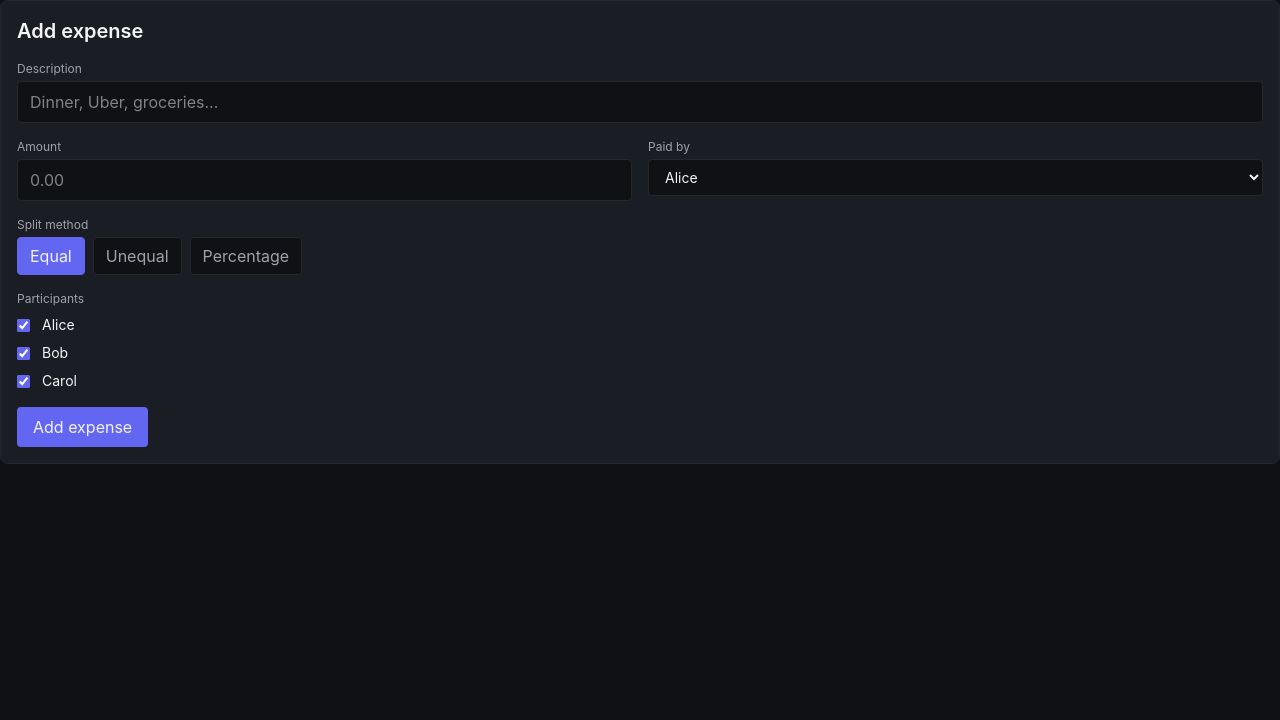
Test: AddExpenseForm › requires at least one participant to be selected
Type "Dinner" into the field labelled "Description".
click(640, 102); type("Dinner")  # box [17,81,1263,123]
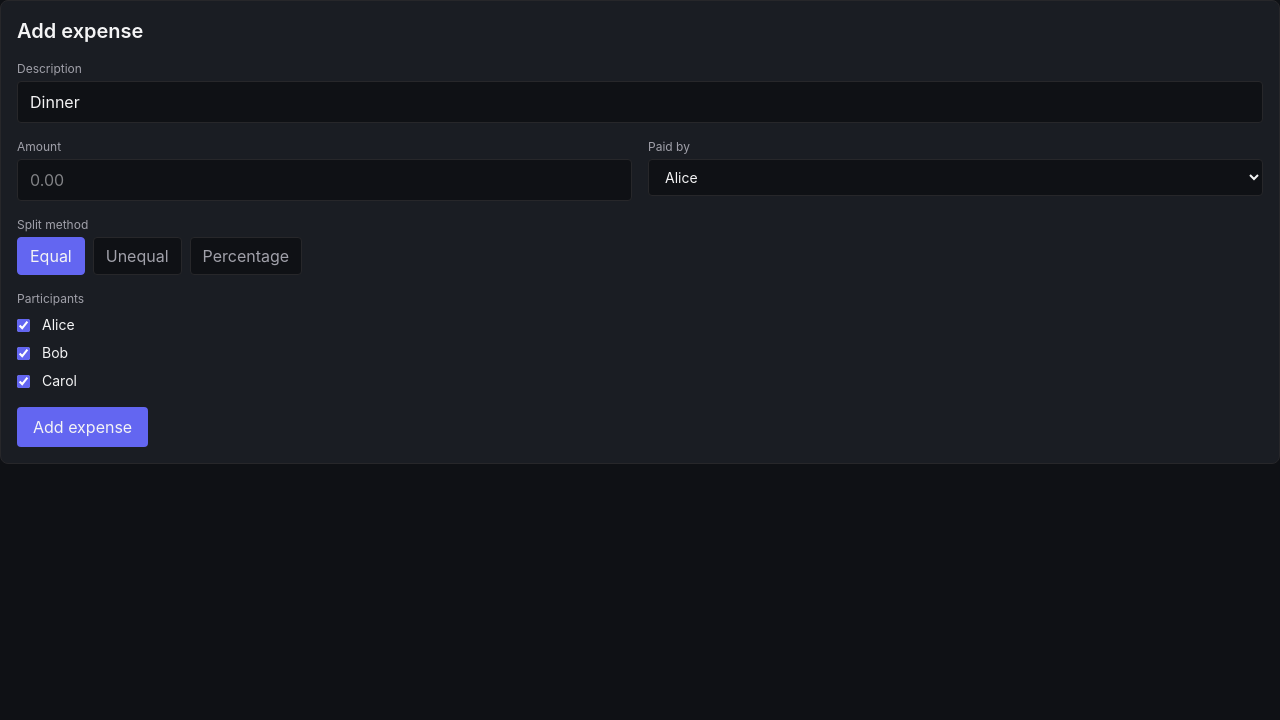
Type "50" into the number field labelled "Amount".
click(324, 180); type("50")  # box [17,159,632,201]
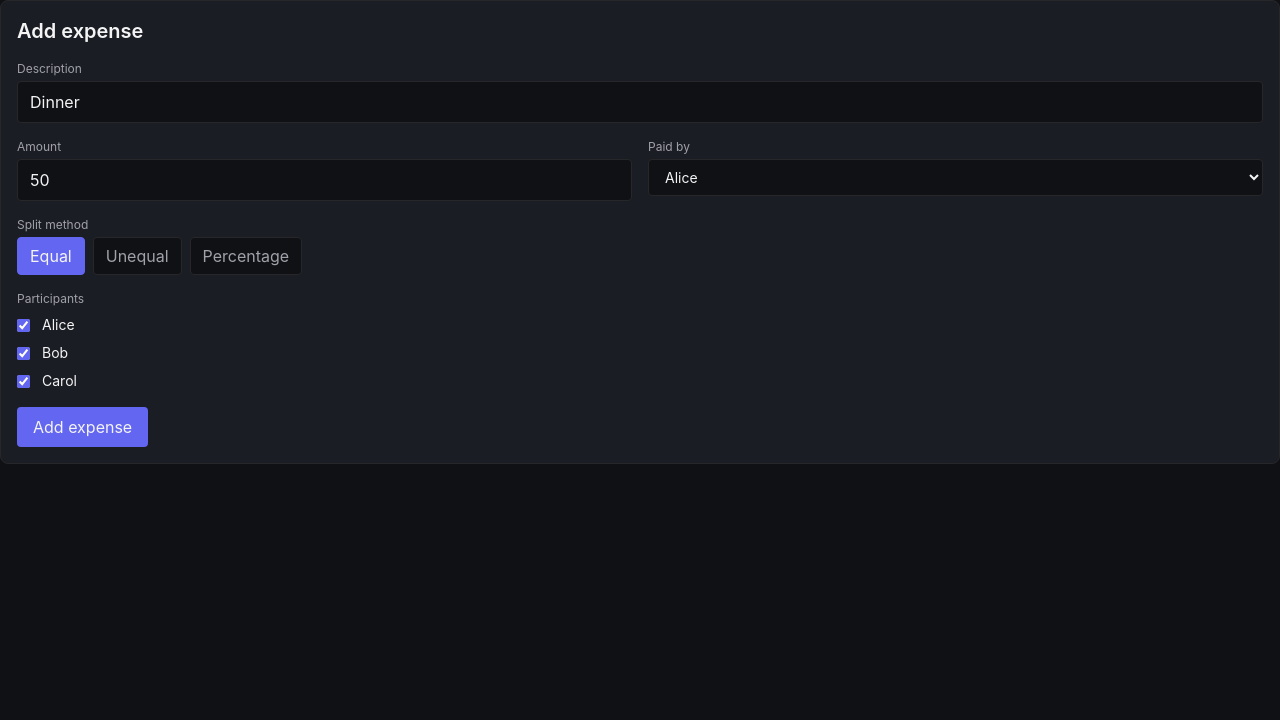
Click the checkbox next to "Alice".
click(24, 325)  # box [17,318,30,332]
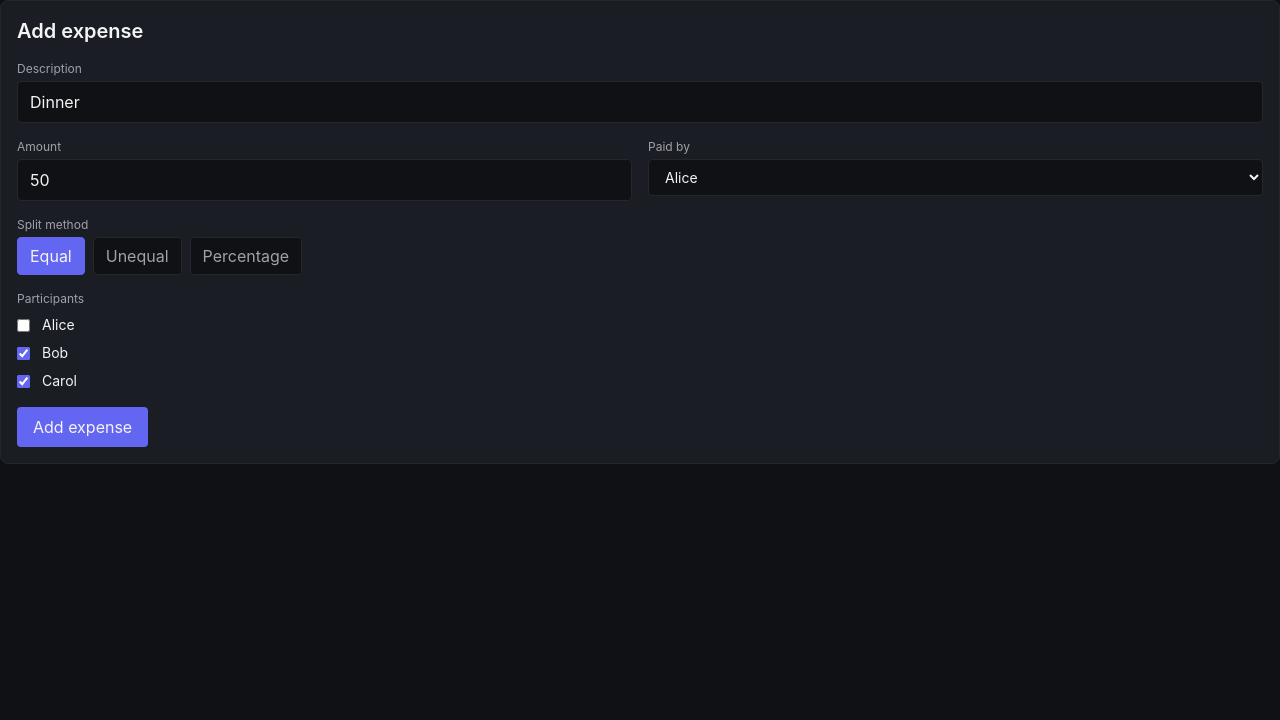
Click the checkbox next to "Bob".
click(24, 353)  # box [17,346,30,360]
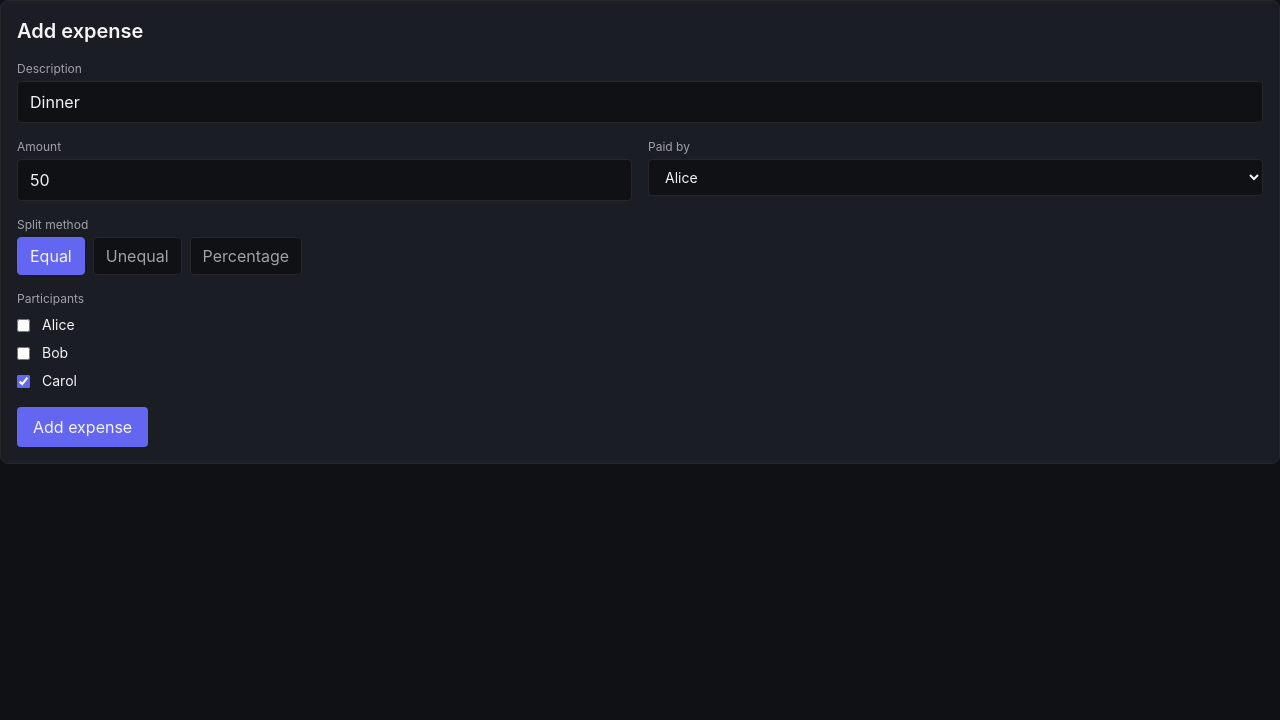
Click the checkbox next to "Carol".
click(24, 381)  # box [17,374,30,388]
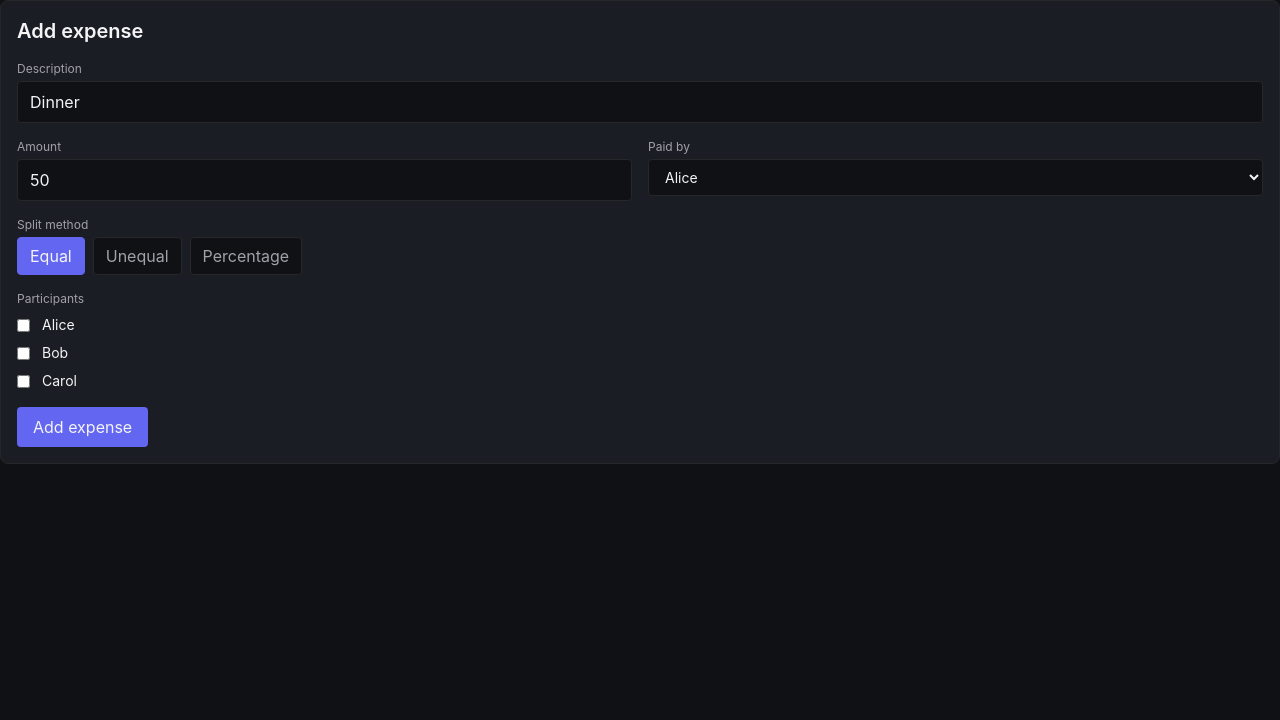
Click the button "Add expense".
click(83, 427)  # box [17,407,148,447]
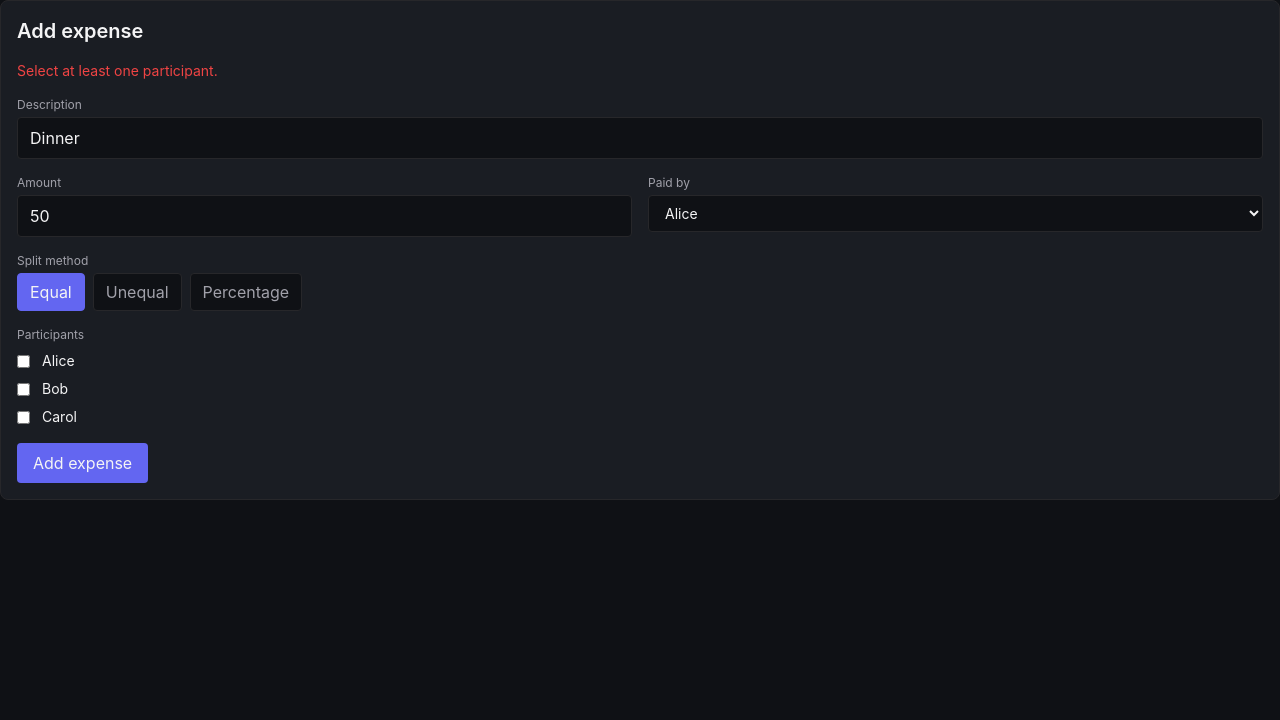
Expected: the text "Select at least one participant." is shown, [17,62,218,79]
